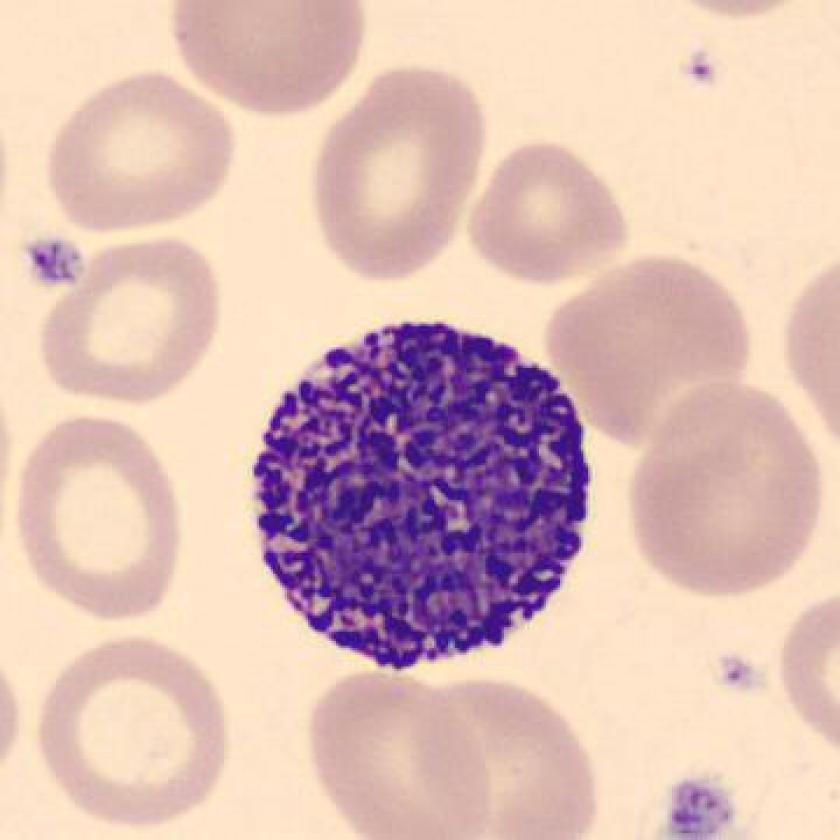basophil: (237, 309, 605, 674)
